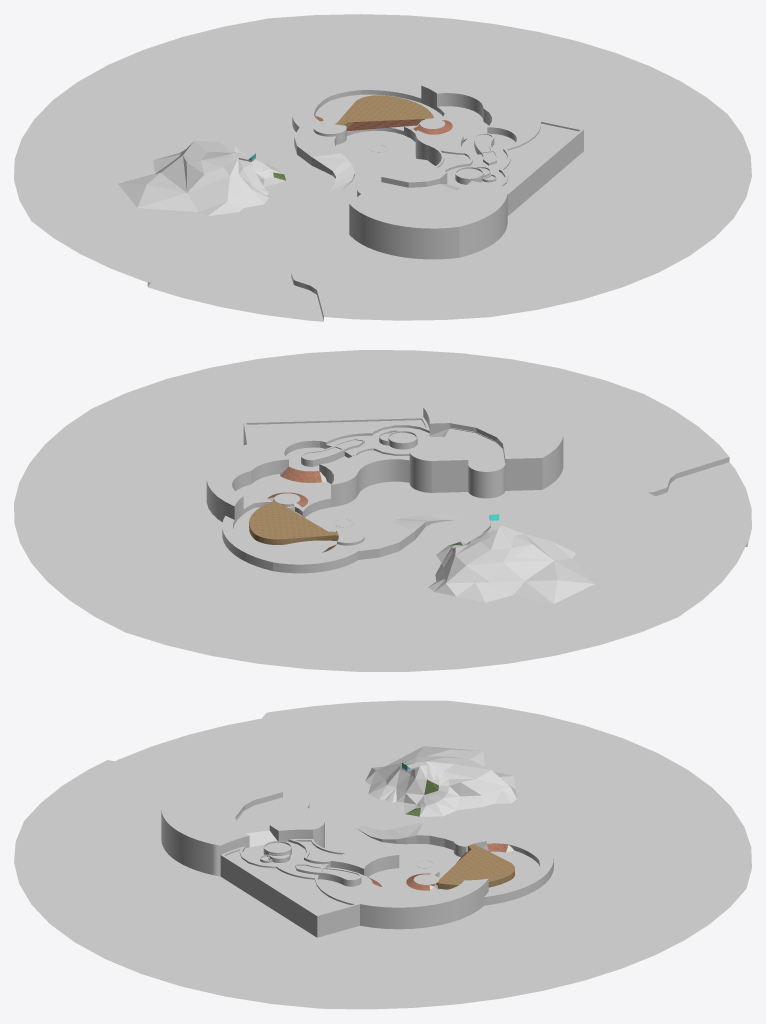
The model's file is mariokart_Unknow.fbx.
3 renders of one model, top to bottom at view 1: azimuth 30°, elevation 25°; view 2: azimuth 150°, elevation 25°; view 3: azimuth 270°, elevation 25°, orthographic. The views are drawn at different scales.
Parts seen in each view (by area): view 1: Mario_Kart_Wii_Custom_Track__Riverbend_Gardens1; view 2: Mario_Kart_Wii_Custom_Track__Riverbend_Gardens1; view 3: Mario_Kart_Wii_Custom_Track__Riverbend_Gardens1.
Part boxes in pixels (x1,y1,x2,y2): Mario_Kart_Wii_Custom_Track__Riverbend_Gardens1: (14, 14, 751, 321); Mario_Kart_Wii_Custom_Track__Riverbend_Gardens1: (14, 350, 751, 671); Mario_Kart_Wii_Custom_Track__Riverbend_Gardens1: (14, 700, 751, 1009).
Bounding box in the file's own units: 48800 × 2864 × 49255.
